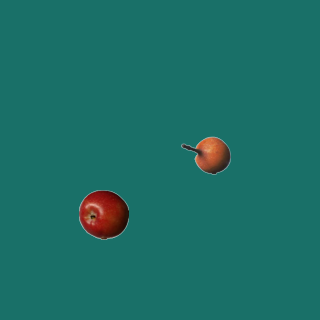Apple Braeburn: (78, 189, 128, 239)
Granadilla: (180, 130, 230, 180)
